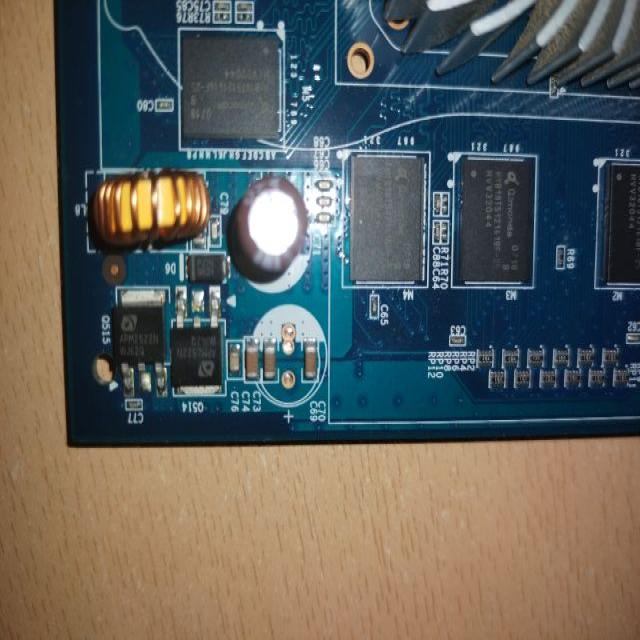capacitor: (218, 328, 245, 390), (239, 325, 263, 394), (258, 333, 284, 392), (300, 338, 328, 386), (124, 392, 149, 422), (446, 327, 472, 349), (368, 290, 383, 322), (431, 186, 442, 219), (432, 219, 440, 250)
resistor: (508, 366, 534, 398), (608, 366, 634, 398), (536, 368, 563, 397), (549, 341, 571, 371), (560, 368, 584, 395), (585, 367, 607, 396), (524, 345, 546, 372), (500, 342, 520, 370), (576, 341, 596, 369), (486, 367, 507, 393), (554, 242, 570, 276), (474, 346, 496, 368), (439, 185, 450, 221), (440, 218, 452, 250), (600, 346, 618, 366)
